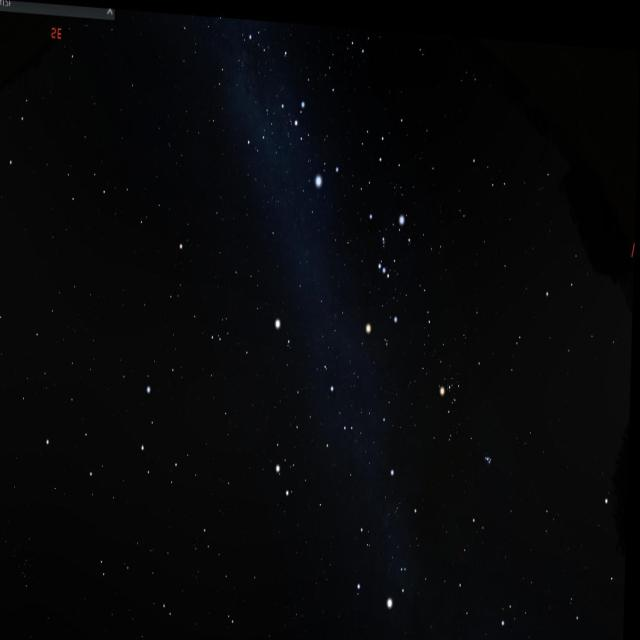canis_major: (285, 81, 350, 193)
canis_minor: (271, 301, 300, 352)
gemini: (274, 350, 368, 509)
leo: (38, 362, 192, 512)
orion: (357, 194, 413, 348)
pleiades: (485, 435, 501, 462)
taurus: (432, 347, 508, 486)
